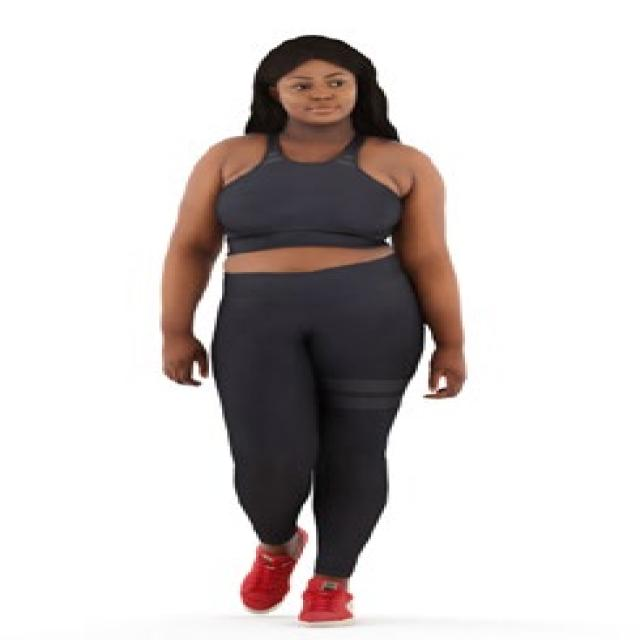standing: (154, 31, 467, 627)
